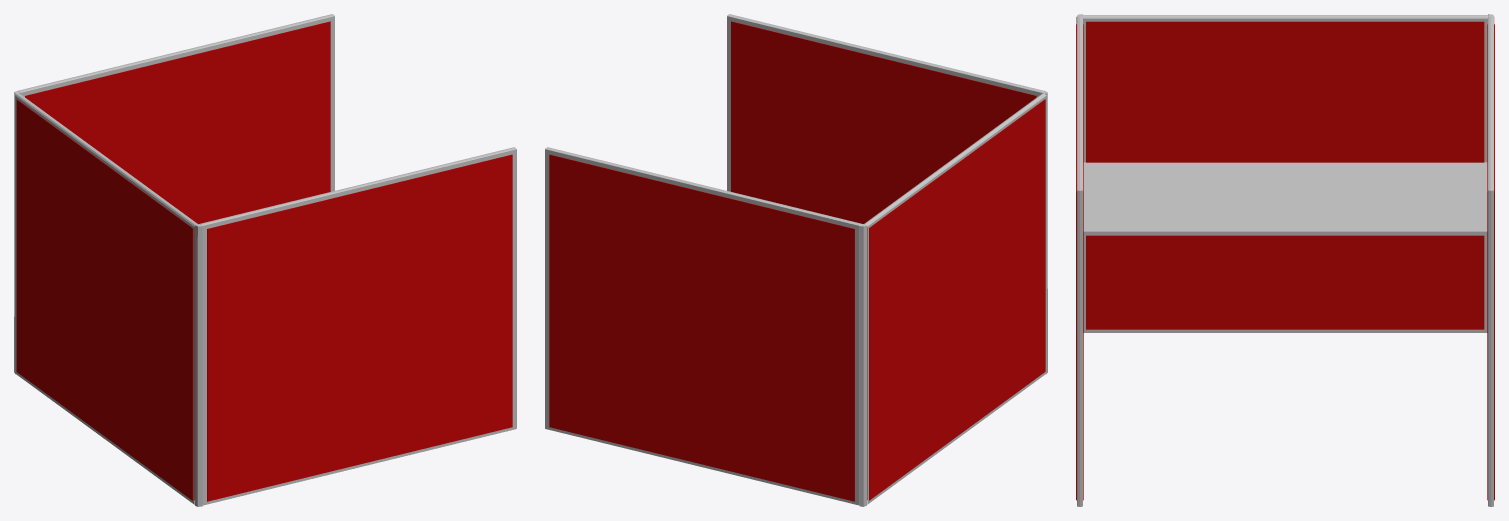
The model's file is Lvl4Cubicle.obj.
3 views of the same model, side by side, from view 1: azimuth 30°, elevation 25°; view 2: azimuth 150°, elevation 25°; view 3: azimuth 270°, elevation 25° (orthographic). The views are drawn at different scales.
Parts seen in each view (by area): view 1: Cube.003, Cube.001, Cube.005, Cube.002, Cube.004, Cube, Cube.006, Cube.007; view 2: Cube.005, Cube.001, Cube.003, Cube.004, Cube, Cube.002, Cube.007, Cube.006; view 3: Cube.001, Cube.008, Cube, Cube.002, Cube.004, Cube.003, Cube.005.
Boxes of the visible parts, box(x1,y1,x2,y2) form: Cube.003: box(207, 154, 512, 501); Cube.001: box(16, 99, 194, 500); Cube.005: box(25, 21, 330, 224); Cube.002: box(200, 147, 516, 505); Cube.004: box(18, 14, 334, 191); Cube: box(15, 93, 197, 504); Cube.006: box(195, 224, 202, 506); Cube.007: box(14, 90, 20, 374); Cube.005: box(549, 154, 854, 501); Cube.001: box(867, 99, 1045, 500); Cube.003: box(731, 21, 1036, 223); Cube.004: box(545, 147, 861, 505); Cube: box(864, 93, 1046, 504); Cube.002: box(727, 14, 1043, 191); Cube.007: box(859, 224, 866, 506); Cube.006: box(1041, 90, 1047, 374); Cube.001: box(1086, 21, 1484, 329); Cube.008: box(1083, 162, 1487, 235); Cube: box(1083, 15, 1487, 332); Cube.002: box(1077, 16, 1082, 506); Cube.004: box(1488, 16, 1493, 506); Cube.003: box(1076, 24, 1083, 500); Cube.005: box(1487, 24, 1494, 500).
Size of the model in its own units: 2.03 by 1.7 by 2.04.
